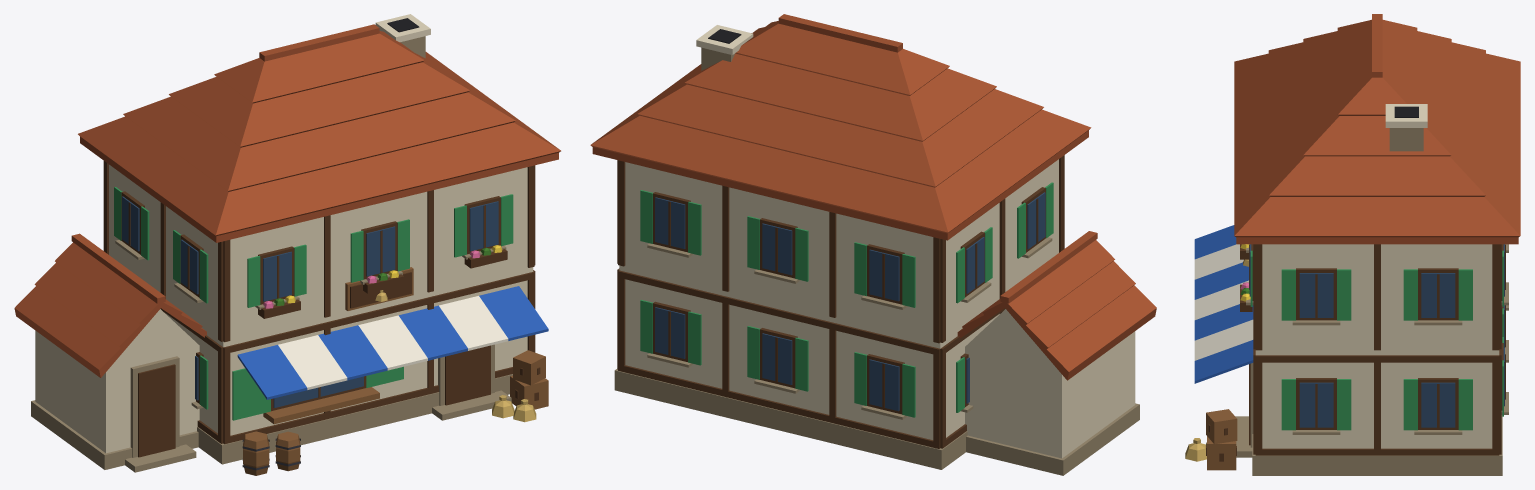
The model's file is Shop_General.fbx.
3 views of the same model, side by side, from view 1: azimuth 30°, elevation 25°; view 2: azimuth 150°, elevation 25°; view 3: azimuth 270°, elevation 25° (orthographic). The views are drawn at different scales.
Visible parts, largest first — view 1: Shop_General; view 2: Shop_General; view 3: Shop_General.
Boxes of the visible parts, <box> form: Shop_General: <box>14,14,560,475</box>; Shop_General: <box>590,14,1156,475</box>; Shop_General: <box>1185,14,1520,475</box>.
Bounding box in the file's own units: 10.68 × 8 × 6.88.
